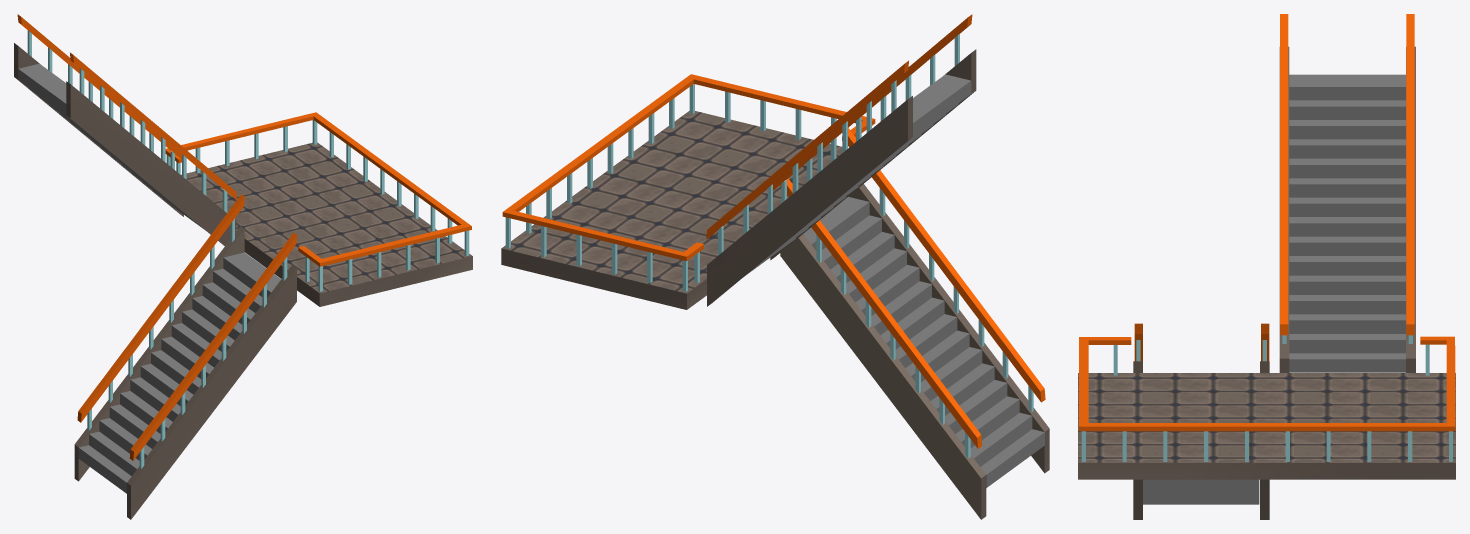
Rendered from Ladder invert.fbx.
The picture shows the model from 3 angles, left to right: view 1: azimuth 30°, elevation 25°; view 2: azimuth 150°, elevation 25°; view 3: azimuth 270°, elevation 25°; orthographic projection. The views are drawn at different scales.
Visible parts, largest first — view 1: Plane.005, Steps 2.011, Railings 2.004, Railings 1.006, Railings 3.006, Railings 4.006, Steps 2.012; view 2: Plane.005, Steps 2.011, Railings 2.004, Railings 1.006, Railings 3.006, Railings 4.006, Steps 2.012; view 3: Plane.005, Steps 2.012, Railings 1.006, Railings 3.006, Steps 2.011, Railings 4.006, Railings 2.004.
Boxes of the visible parts, left/top/right/bottom form: Plane.005: left=14, top=43, right=472, bottom=519; Steps 2.011: left=78, top=252, right=281, bottom=493; Railings 2.004: left=77, top=194, right=297, bottom=468; Railings 1.006: left=17, top=14, right=237, bottom=212; Railings 3.006: left=165, top=112, right=471, bottom=266; Railings 4.006: left=166, top=120, right=469, bottom=291; Steps 2.012: left=18, top=63, right=205, bottom=230; Plane.005: left=501, top=49, right=1049, bottom=519; Steps 2.011: left=803, top=196, right=1044, bottom=487; Railings 2.004: left=780, top=127, right=1045, bottom=458; Railings 1.006: left=706, top=14, right=972, bottom=255; Railings 3.006: left=502, top=74, right=875, bottom=261; Railings 4.006: left=505, top=84, right=836, bottom=291; Steps 2.012: left=744, top=74, right=971, bottom=276; Plane.005: left=1078, top=46, right=1455, bottom=519; Steps 2.012: left=1289, top=74, right=1405, bottom=372; Railings 1.006: left=1280, top=14, right=1414, bottom=343; Railings 3.006: left=1079, top=336, right=1455, bottom=431; Steps 2.011: left=1143, top=479, right=1259, bottom=504; Railings 4.006: left=1081, top=344, right=1452, bottom=461; Railings 2.004: left=1134, top=323, right=1269, bottom=361.
Size of the model in its own units: 921 by 1159 by 781.
